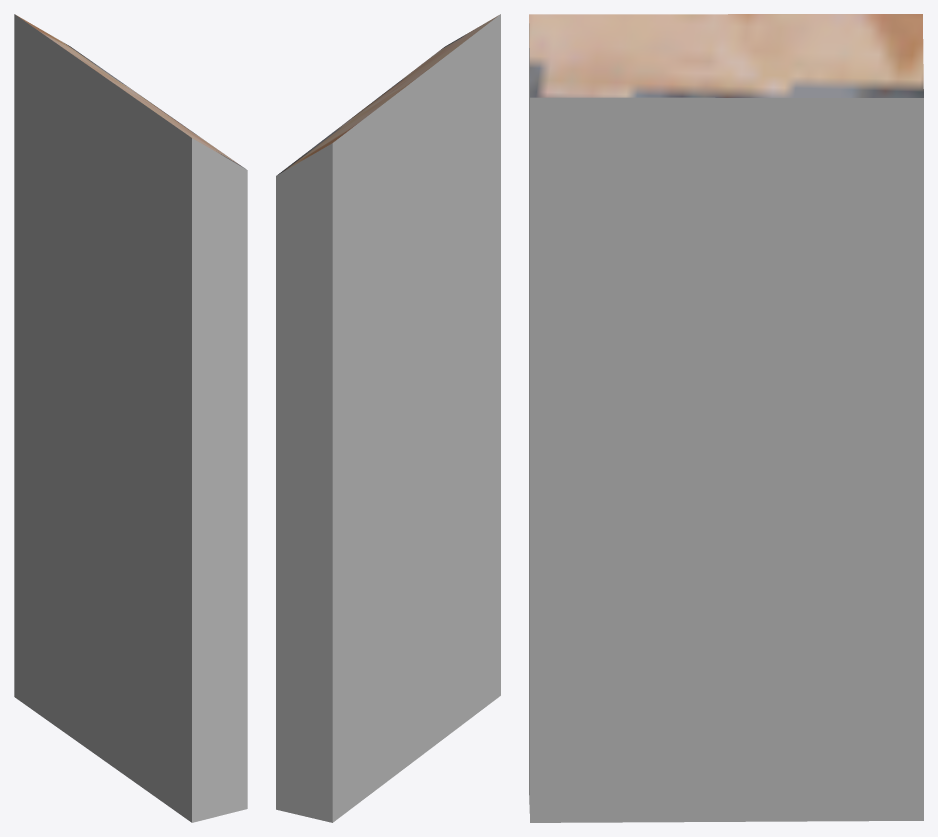
File: DEBW_0010007THWm.gltf
3 renders of one model, left to right at view 1: azimuth 30°, elevation 25°; view 2: azimuth 150°, elevation 25°; view 3: azimuth 270°, elevation 25°, orthographic. The views are drawn at different scales.
Visible parts, largest first — view 1: Z_UP; view 2: Z_UP; view 3: Z_UP.
Boxes of the visible parts, x1,y1,x2,y2 form: Z_UP: [14, 14, 247, 822]; Z_UP: [276, 14, 500, 822]; Z_UP: [529, 14, 923, 822].
Size of the model in its own units: 1.41 by 15.32 by 7.05.
Materials: 2 (1 with a texture image).
